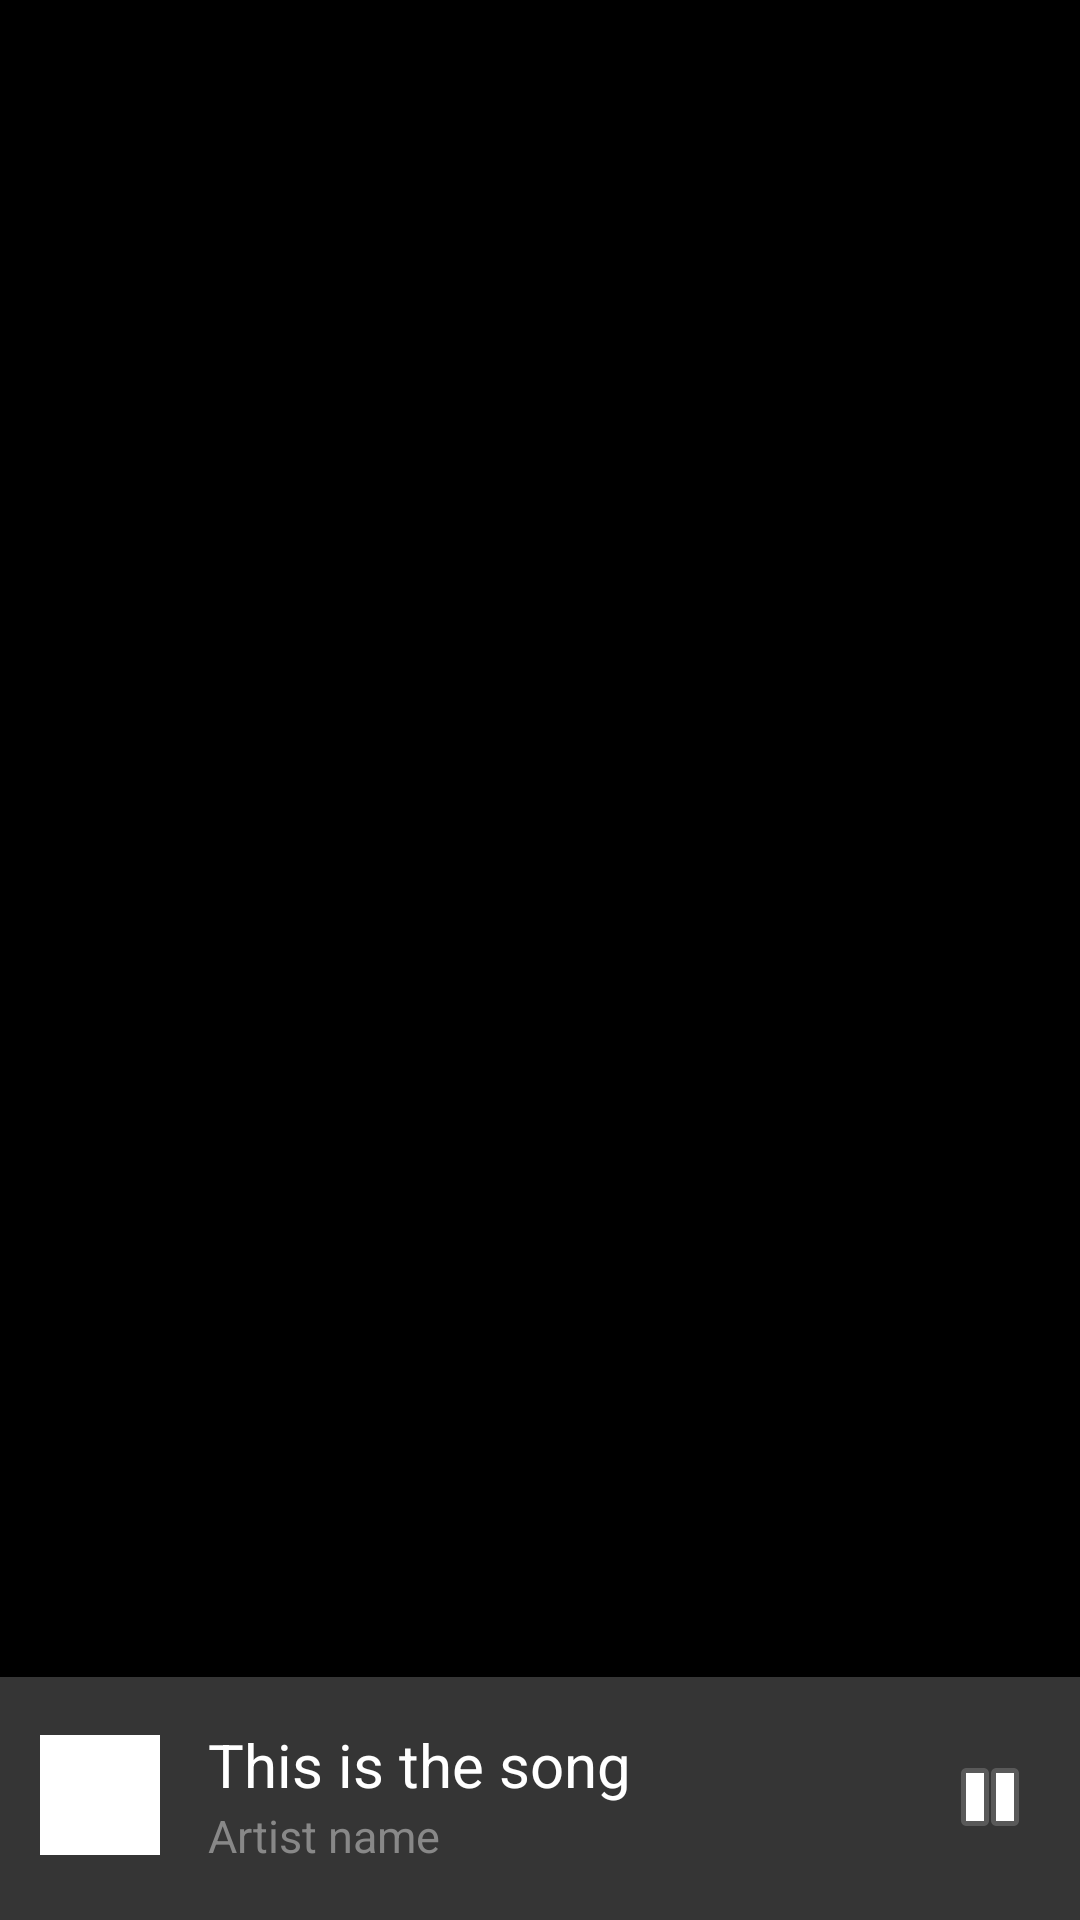

Icon click points for this 1080 x 1920 phone screenshot, format [x,y]:
pause: [990,1797]
